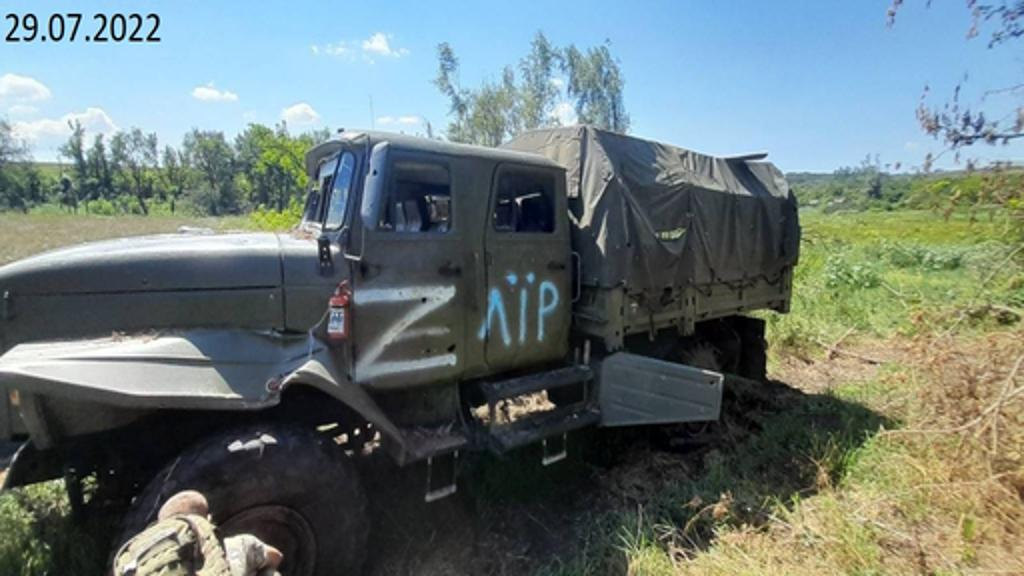TRUCK: (0, 122, 806, 574)
